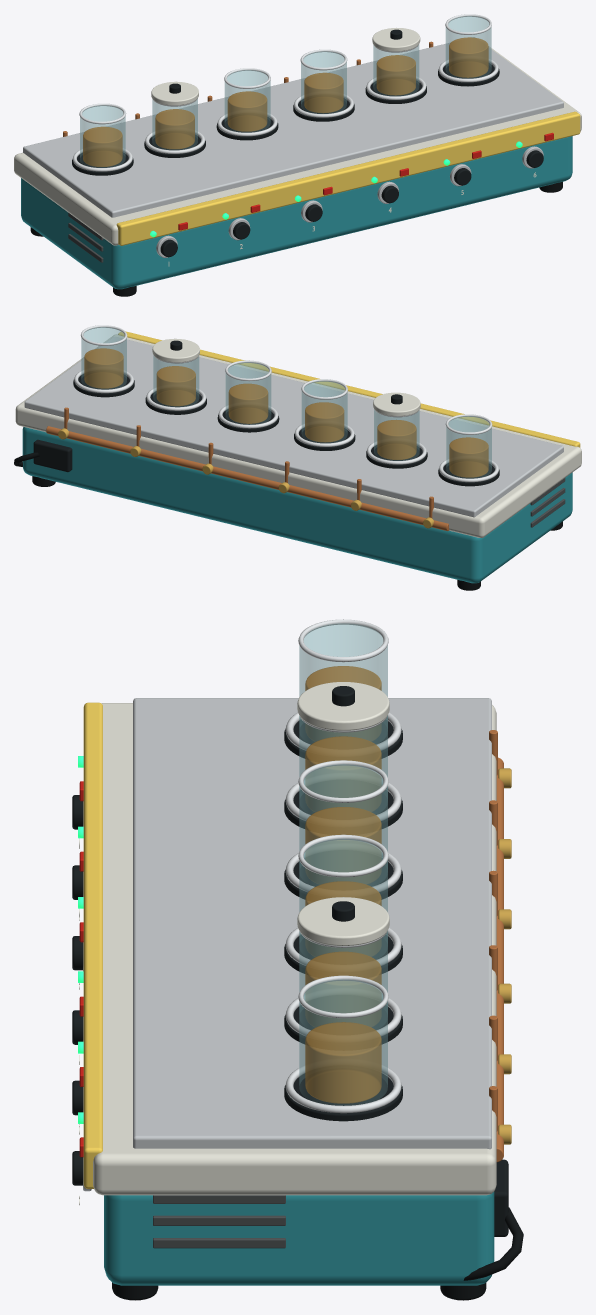
Rendered from multi-position-heating-bath.glb.
The picture shows the model from 3 angles, top to bottom: view 1: azimuth 30°, elevation 25°; view 2: azimuth 150°, elevation 25°; view 3: azimuth 270°, elevation 25°; orthographic projection. The views are drawn at different scales.
Parts seen in each view (by area): view 1: PBR Brushed SUS304 stainless steel, PBR Room 809 turquoise enamel, PBR Borosilicate equipment glass, PBR Warm ochre edge and knob, PBR Translucent amber oil and bath fluid, PBR Warm laboratory baked enamel, PBR Black engineering polymer, PBR Polished stainless hardware, PBR Dark phosphated service metal, PBR Safety red control, PBR Black EPDM isolation rubber; view 2: PBR Brushed SUS304 stainless steel, PBR Room 809 turquoise enamel, PBR Borosilicate equipment glass, PBR Warm laboratory baked enamel, PBR Translucent amber oil and bath fluid, PBR Black engineering polymer, PBR Polished stainless hardware, PBR Aged copper service tubing, PBR Warm ochre edge and knob, PBR Black EPDM isolation rubber, PBR Dark phosphated service metal, PBR Machined brass fittings; view 3: PBR Brushed SUS304 stainless steel, PBR Warm laboratory baked enamel, PBR Borosilicate equipment glass, PBR Room 809 turquoise enamel, PBR Translucent amber oil and bath fluid, PBR Black engineering polymer, PBR Polished stainless hardware, PBR Warm ochre edge and knob, PBR Dark phosphated service metal, PBR Aged copper service tubing, PBR Black EPDM isolation rubber, PBR Machined brass fittings.
Part boxes in pixels (x1,y1,x2,y2): PBR Brushed SUS304 stainless steel: [23, 37, 563, 257]; PBR Room 809 turquoise enamel: [21, 136, 572, 289]; PBR Borosilicate equipment glass: [80, 16, 491, 167]; PBR Warm ochre edge and knob: [116, 111, 580, 245]; PBR Translucent amber oil and bath fluid: [83, 37, 488, 166]; PBR Warm laboratory baked enamel: [14, 28, 581, 245]; PBR Black engineering polymer: [72, 29, 543, 257]; PBR Polished stainless hardware: [72, 14, 498, 171]; PBR Dark phosphated service metal: [68, 213, 103, 262]; PBR Safety red control: [178, 132, 553, 230]; PBR Black EPDM isolation rubber: [30, 181, 562, 296]; PBR Brushed SUS304 stainless steel: [24, 336, 563, 517]; PBR Room 809 turquoise enamel: [22, 427, 572, 583]; PBR Borosilicate equipment glass: [81, 327, 491, 478]; PBR Warm laboratory baked enamel: [15, 334, 581, 537]; PBR Translucent amber oil and bath fluid: [84, 348, 488, 477]; PBR Black engineering polymer: [33, 340, 499, 486]; PBR Polished stainless hardware: [74, 325, 498, 482]; PBR Aged copper service tubing: [46, 407, 449, 531]; PBR Warm ochre edge and knob: [118, 331, 580, 447]; PBR Black EPDM isolation rubber: [14, 452, 562, 590]; PBR Dark phosphated service metal: [530, 478, 565, 527]; PBR Machined brass fittings: [58, 428, 433, 528]; PBR Brushed SUS304 stainless steel: [83, 698, 491, 1191]; PBR Warm laboratory baked enamel: [93, 682, 496, 1195]; PBR Borosilicate equipment glass: [299, 623, 387, 1105]; PBR Room 809 turquoise enamel: [104, 1191, 494, 1285]; PBR Translucent amber oil and bath fluid: [305, 666, 381, 1103]; PBR Black engineering polymer: [72, 686, 508, 1236]; PBR Polished stainless hardware: [285, 619, 401, 1113]; PBR Warm ochre edge and knob: [83, 702, 102, 1188]; PBR Dark phosphated service metal: [153, 1195, 285, 1248]; PBR Aged copper service tubing: [489, 730, 503, 1162]; PBR Black EPDM isolation rubber: [112, 1207, 523, 1300]; PBR Machined brass fittings: [498, 768, 511, 1144].
Size of the model in its own units: 1.2 by 0.35 by 0.5.
